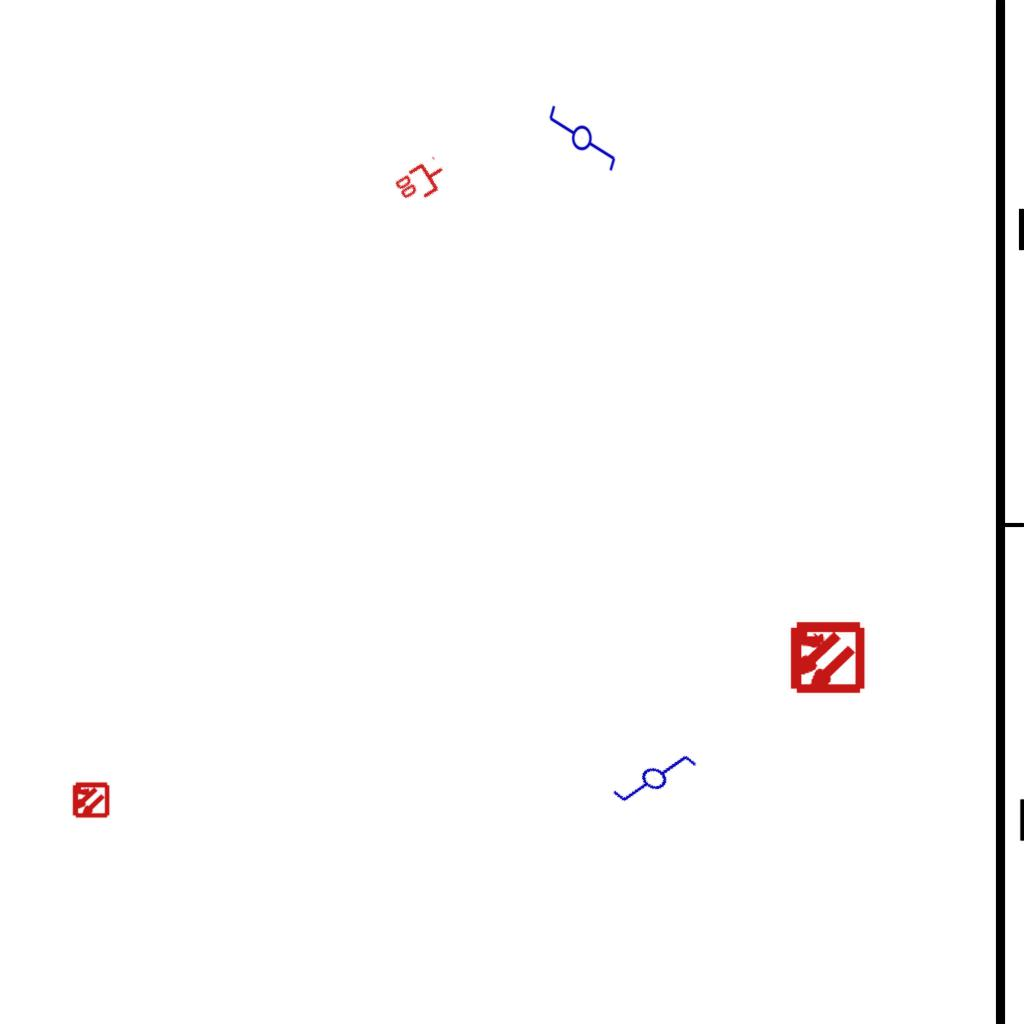Datenanschluss_zweifach: (391, 154, 453, 211)
OT_Multisensormelder_(Kombination_RMO_WMD): (769, 601, 882, 714), (62, 772, 118, 828)
Wechselschalter: (601, 727, 701, 825), (547, 95, 619, 173)
